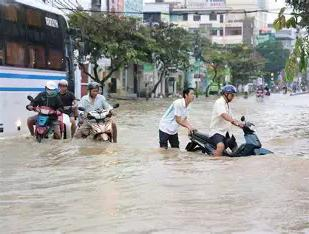ROAD_FLOODING: (15, 102, 294, 221)
